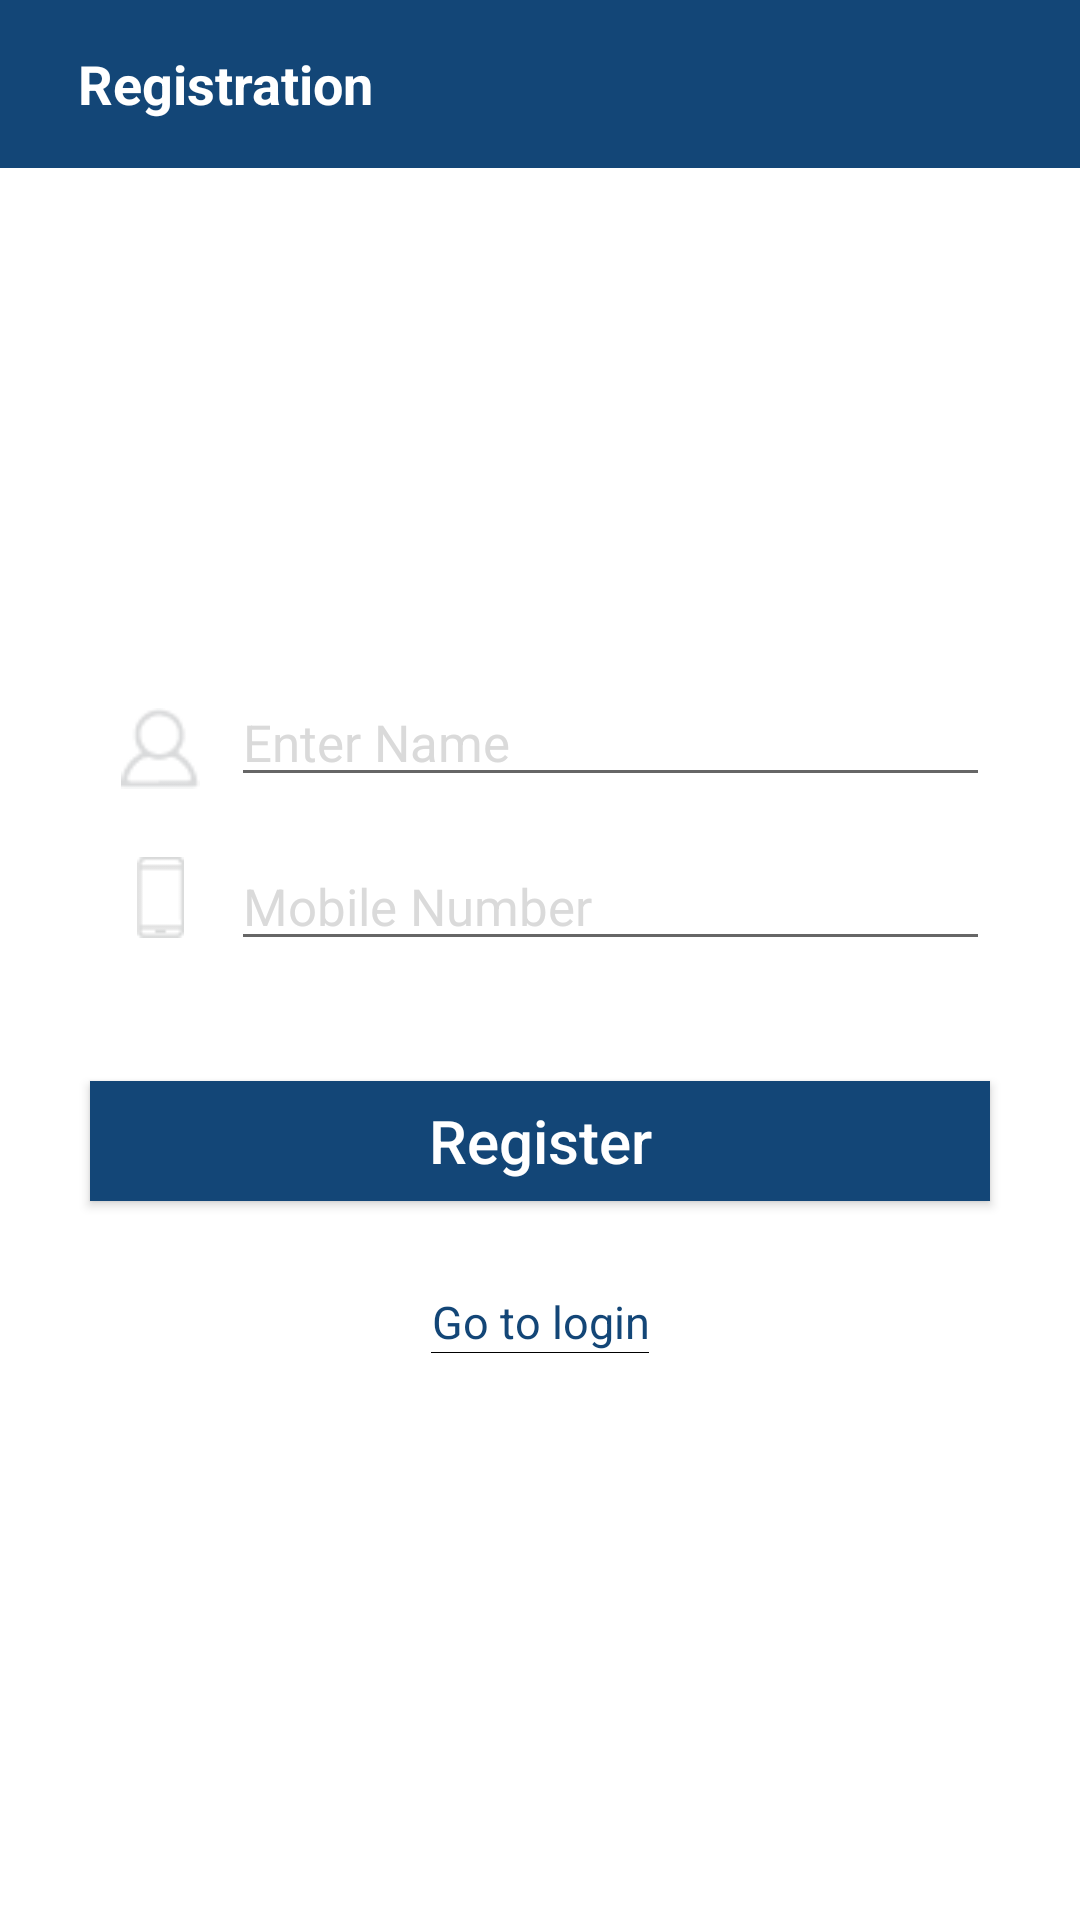

Named icons in this screenshot (1080w x 1920h) and their centers, [x,y]:
person: [158,748]
